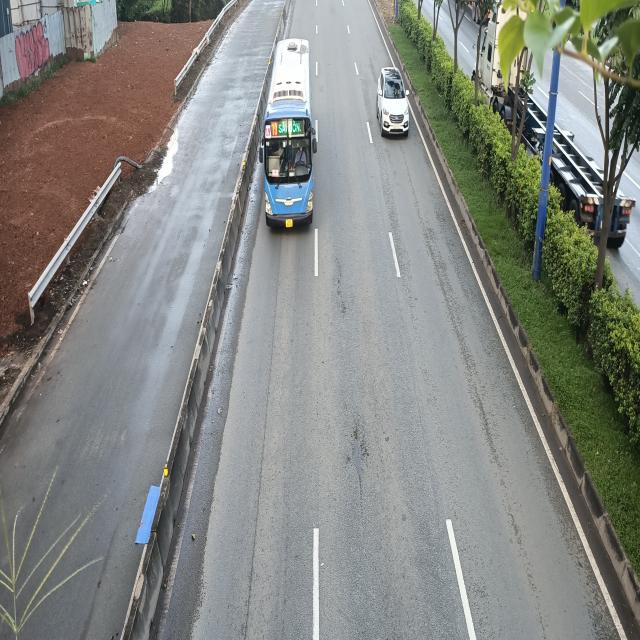car: (374, 66, 408, 136)
coach: (256, 40, 316, 230)
